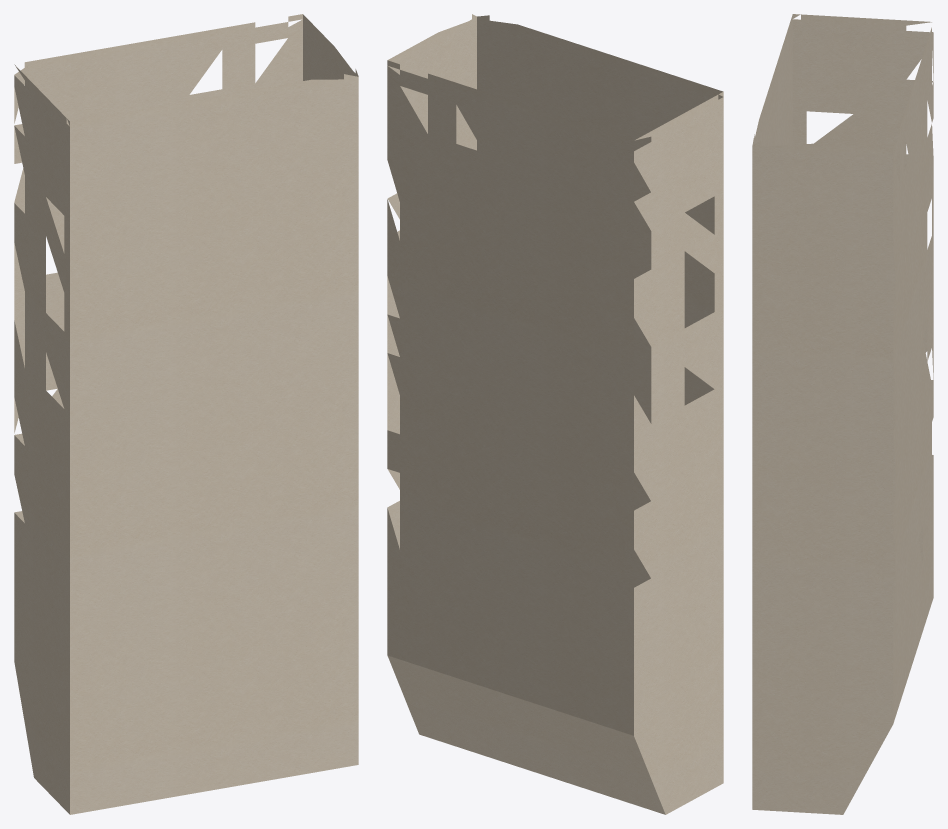
The model's file is coarse.glb.
3 renders of one model, left to right at view 1: azimuth 30°, elevation 25°; view 2: azimuth 150°, elevation 25°; view 3: azimuth 270°, elevation 25°, orthographic. The views are drawn at different scales.
Bounding box in the file's own units: 1.39 × 3.22 × 0.7902.
1 material, 1 textured.
